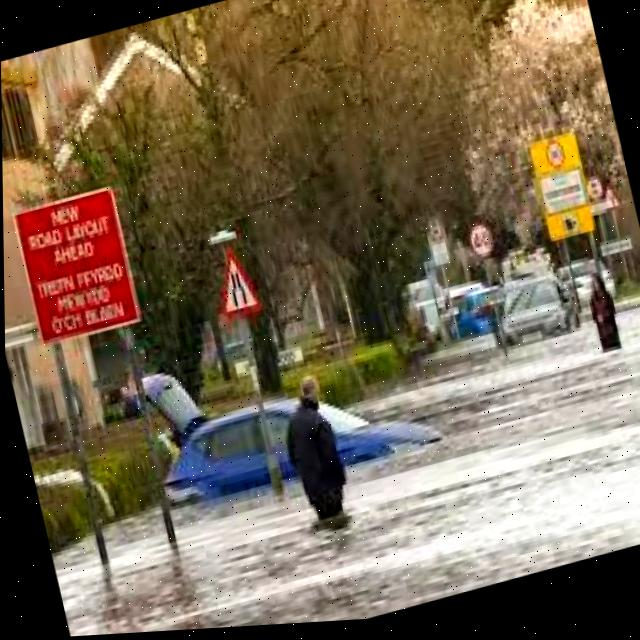civilian: (270, 369, 361, 556), (574, 267, 637, 376)
